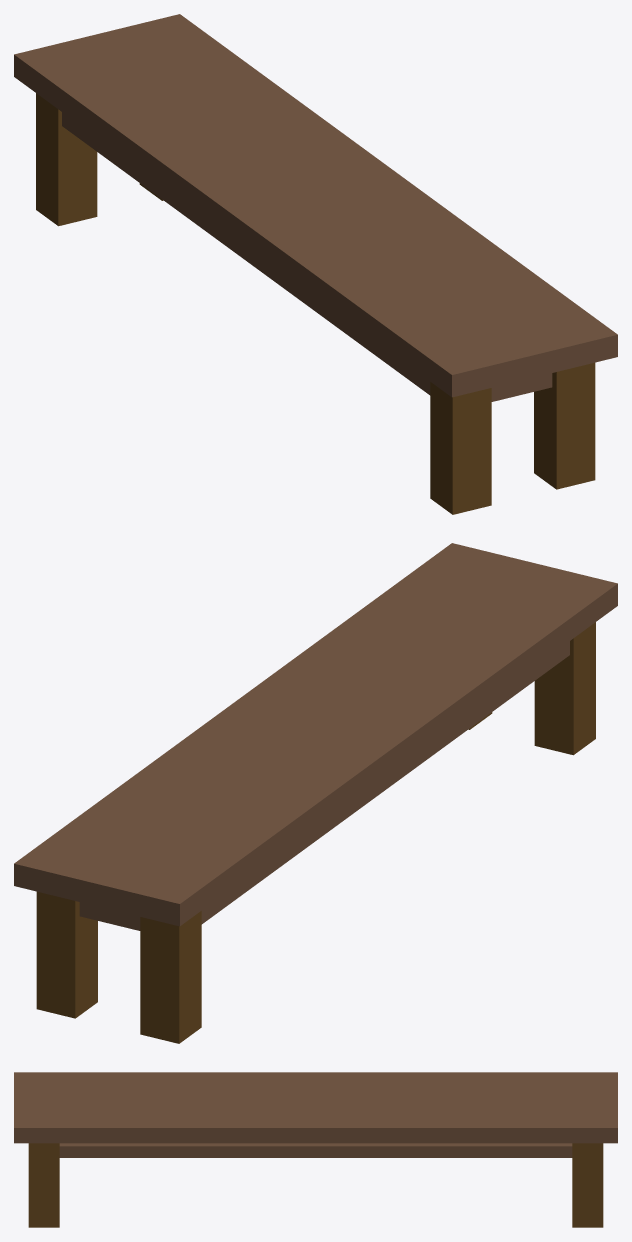
Rendered from bench.fbx.
3 renders of one model, top to bottom at view 1: azimuth 30°, elevation 25°; view 2: azimuth 150°, elevation 25°; view 3: azimuth 270°, elevation 25°, orthographic. The views are drawn at different scales.
Visible parts, largest first — view 1: Cube, Cube.001, Cube.002, Cube.004, Cube.006, Cube.007; view 2: Cube, Cube.004, Cube.003, Cube.001, Cube.006, Cube.008; view 3: Cube, Cube.005, Cube.002, Cube.003.
Boxes of the visible parts, x1,y1,x2,y2 form: Cube: [14, 14, 617, 397]; Cube.001: [430, 382, 491, 514]; Cube.002: [534, 362, 595, 489]; Cube.004: [36, 93, 97, 226]; Cube.006: [62, 112, 430, 395]; Cube.007: [491, 373, 552, 401]; Cube: [14, 543, 617, 926]; Cube.004: [140, 911, 201, 1043]; Cube.003: [36, 891, 97, 1018]; Cube.001: [534, 622, 595, 755]; Cube.006: [201, 641, 569, 924]; Cube.008: [79, 902, 140, 930]; Cube: [14, 1072, 617, 1143]; Cube.005: [59, 1143, 572, 1157]; Cube.002: [28, 1143, 59, 1227]; Cube.003: [572, 1143, 603, 1227].
Size of the model in its own units: 100 by 86.61 by 457.
